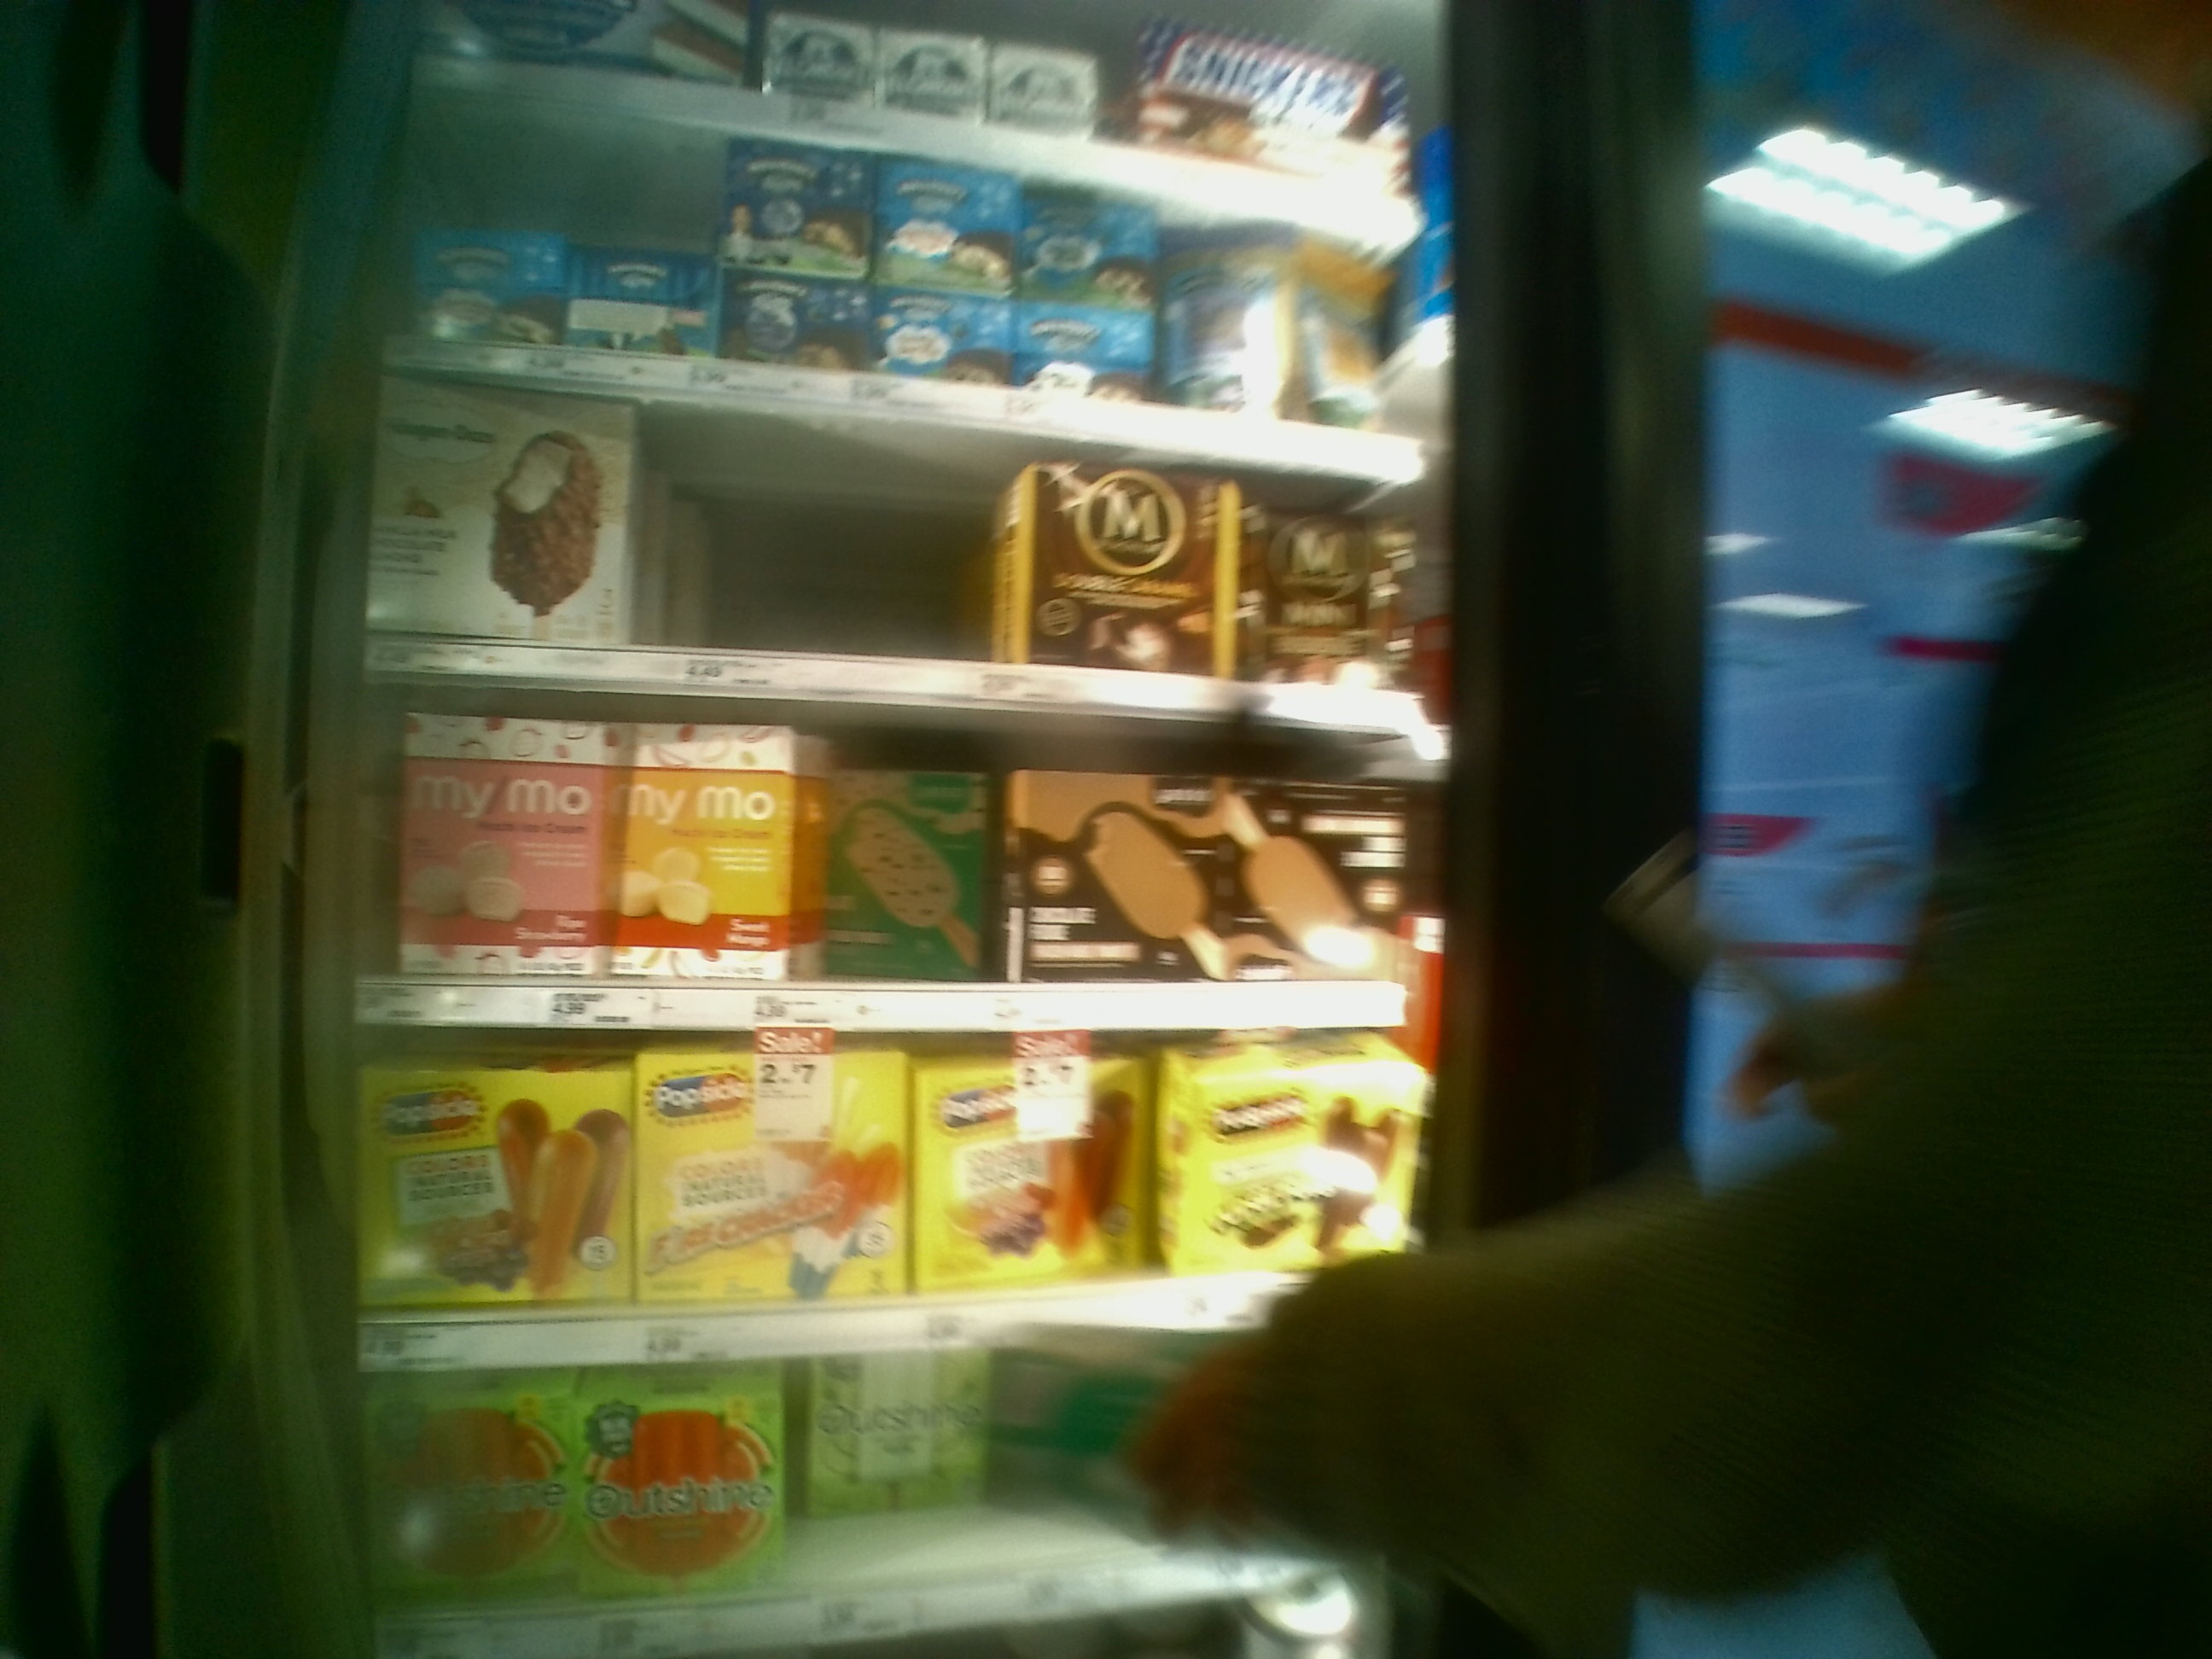ice-cream-shelf: (369, 681, 1413, 1033)
